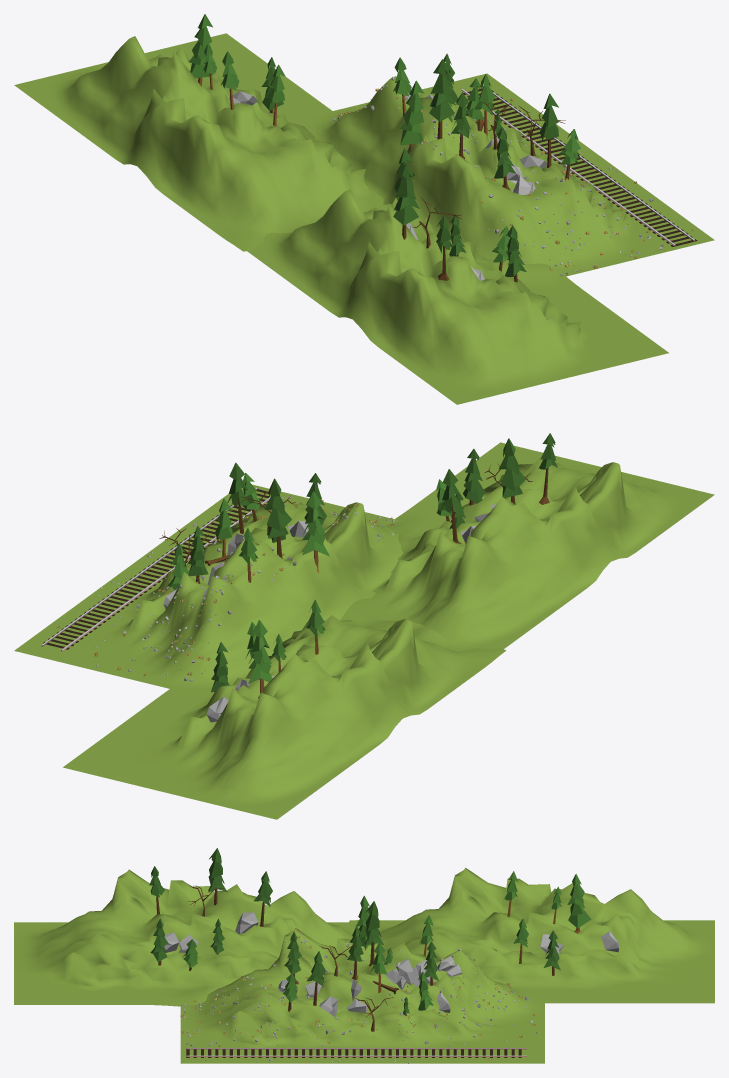
File: 2GreenHill_Environment.fbx
3 views of the same model, one above another, from view 1: azimuth 30°, elevation 25°; view 2: azimuth 150°, elevation 25°; view 3: azimuth 270°, elevation 25° (orthographic). The views are drawn at different scales.
Parts seen in each view (by area): view 1: Landscape.001, Landscape.002, Landscape, Train_Tracks_Concrete, Train_tracks, Tree_1.012, Tree_1.014, Tree_1.004, Tree_1.020, Tree_1.006, Tree_1.007, Tree_1.021; view 2: Landscape.002, Landscape.001, Landscape, Train_Tracks_Concrete, Train_tracks, Tree_1.012, Tree_1.004, Tree_1.020, Tree_1.014, Tree_1.021, Tree_1.010, Tree_1.006 (+1 smaller); view 3: Landscape, Landscape.002, Landscape.001, Train_Tracks_Concrete, Train_tracks, Tree_1.020, Tree_1.012, Tree_1.014, Tree_1.007, Tree_1.021, Tree_1.010, Tree_1.005 (+6 smaller).
Part boxes in pixels (x1,y1,x2,y2): Landscape.001: (247, 189, 668, 404); Landscape.002: (14, 33, 391, 251); Landscape: (305, 73, 714, 278); Train_Tracks_Concrete: (463, 88, 697, 246); Train_tracks: (461, 84, 695, 245); Tree_1.012: (429, 59, 455, 139); Tree_1.014: (393, 163, 419, 239); Tree_1.004: (400, 80, 424, 153); Tree_1.020: (188, 14, 212, 86); Tree_1.006: (539, 93, 558, 167); Tree_1.007: (494, 127, 515, 190); Tree_1.021: (505, 225, 526, 282); Landscape.002: (63, 611, 506, 819); Landscape.001: (346, 442, 714, 651); Landscape: (14, 483, 403, 695); Train_Tracks_Concrete: (43, 489, 269, 649); Train_tracks: (41, 487, 270, 651); Tree_1.012: (264, 478, 291, 558); Tree_1.004: (302, 491, 329, 573); Tree_1.020: (248, 620, 272, 698); Tree_1.014: (499, 438, 525, 503); Tree_1.021: (463, 449, 485, 505); Tree_1.010: (439, 469, 463, 543); Tree_1.006: (227, 462, 249, 534); Landscape: (180, 928, 544, 1063); Landscape.002: (348, 868, 714, 1003); Landscape.001: (14, 869, 358, 1006); Train_Tracks_Concrete: (186, 1048, 521, 1057); Train_tracks: (186, 1048, 527, 1056); Tree_1.020: (567, 874, 591, 933); Tree_1.012: (365, 901, 383, 966); Tree_1.014: (208, 848, 227, 905); Tree_1.007: (284, 931, 301, 984); Tree_1.021: (150, 918, 168, 965); Tree_1.010: (254, 871, 272, 926); Tree_1.005: (347, 926, 363, 979).
Size of the model in its own units: 21545 by 7424 by 44497.
Materials: 11 (1 with a texture image).
